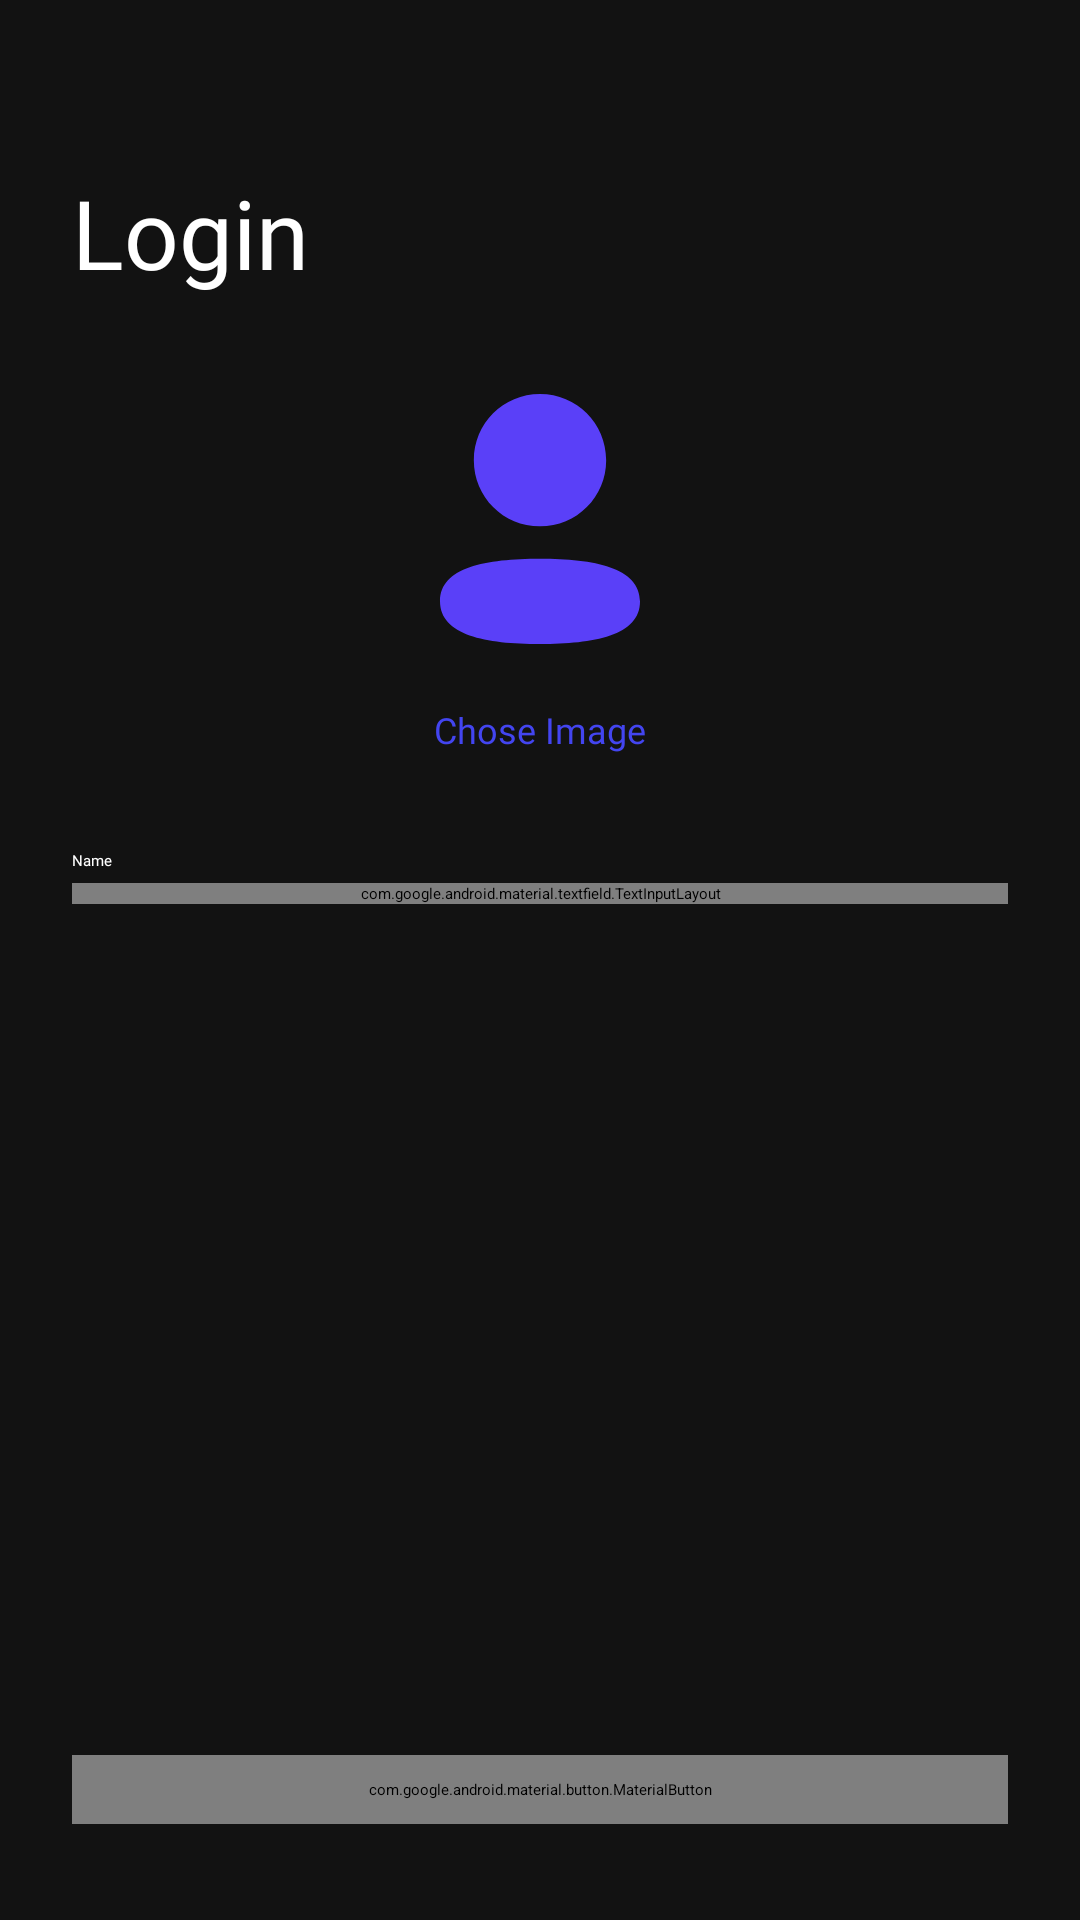

Icon click points for this 1080 × 1920 phone screenshot, format (x,y):
profile: (540,519)
